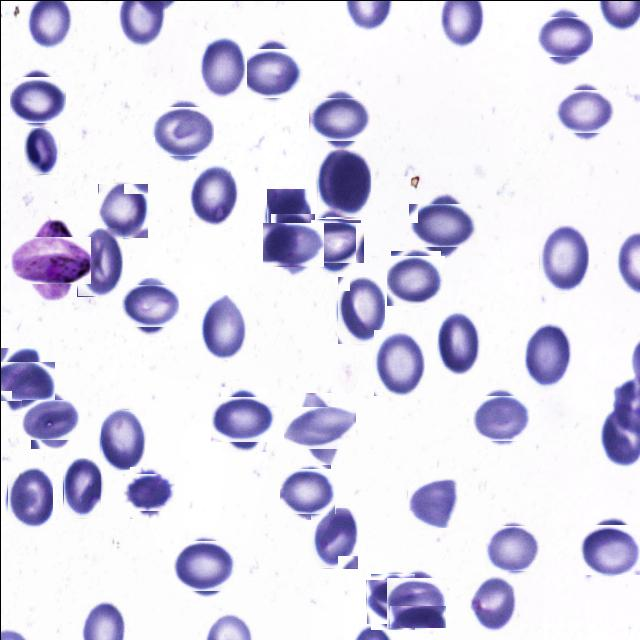difficult: (18, 228, 82, 292)
red blood cell: (316, 149, 371, 218), (372, 329, 424, 396), (538, 224, 588, 293), (522, 322, 571, 392), (581, 520, 640, 578), (188, 159, 239, 226), (176, 536, 233, 594), (291, 398, 348, 456), (336, 276, 384, 344), (243, 44, 300, 101), (388, 574, 446, 630), (76, 227, 122, 296), (154, 103, 210, 159), (414, 197, 470, 253), (198, 33, 246, 98), (467, 574, 518, 634), (200, 294, 247, 359), (6, 465, 52, 530), (388, 252, 442, 307), (313, 91, 367, 146), (216, 391, 270, 446), (309, 507, 357, 568), (558, 84, 610, 138), (306, 215, 358, 268), (97, 183, 147, 238), (474, 391, 526, 443), (266, 218, 318, 270), (437, 310, 479, 374), (100, 409, 144, 469), (407, 477, 458, 528), (12, 72, 62, 124), (266, 188, 310, 247), (487, 522, 537, 573), (0, 354, 47, 408), (367, 576, 417, 626), (282, 466, 332, 516), (126, 280, 176, 330), (26, 394, 76, 444), (62, 457, 100, 518), (540, 12, 588, 60), (126, 470, 170, 514), (22, 127, 58, 174)
